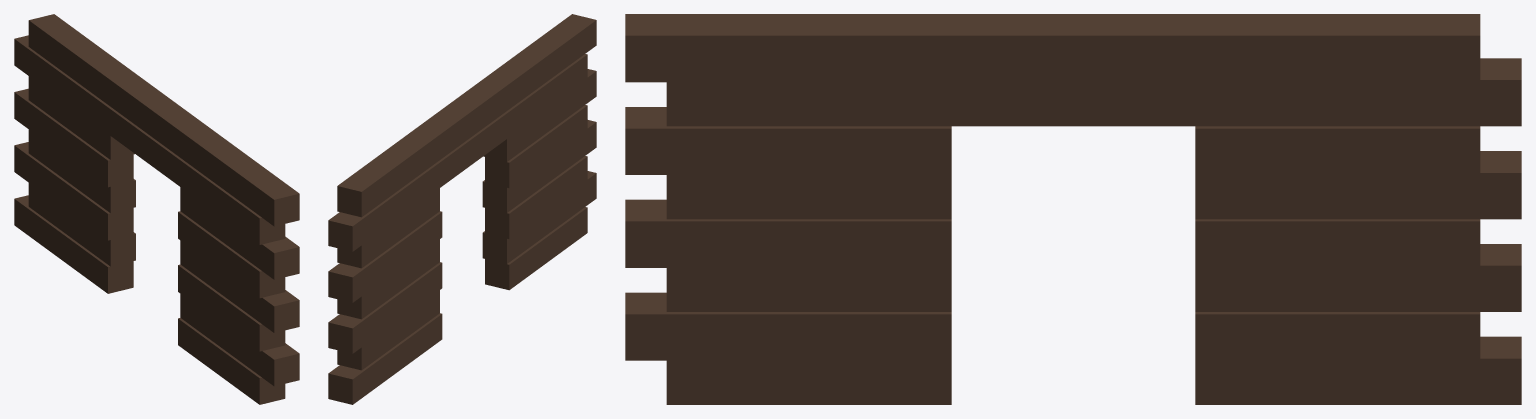
Rendered from Wall With Door destruction.fbx.
The picture shows the model from 3 angles, left to right: view 1: azimuth 30°, elevation 25°; view 2: azimuth 150°, elevation 25°; view 3: azimuth 270°, elevation 25°; orthographic projection. The views are drawn at different scales.
Visible parts, largest first — view 1: Cube.300, Cube.299, Cube.301, Cube.312, Cube.305, Cube.295, Cube.310, Cube.297, Cube.307, Cube.306, Cube.303, Cube.296 (+6 smaller); view 2: Cube.299, Cube.300, Cube.301, Cube.312, Cube.295, Cube.305, Cube.304, Cube.311, Cube.306, Cube.296, Cube.310, Cube.307 (+6 smaller); view 3: Cube.301, Cube.300, Cube.299, Cube.310, Cube.307, Cube.297, Cube.312, Cube.295, Cube.305, Cube.309, Cube.308, Cube.298 (+6 smaller).
Boxes of the visible parts, x1=… form: Cube.300: x1=192, y1=134, x2=299, y2=226; Cube.299: x1=28, y1=14, x2=135, y2=106; Cube.301: x1=110, y1=74, x2=217, y2=165; Cube.312: x1=14, y1=195, x2=133, y2=293; Cube.305: x1=14, y1=142, x2=133, y2=240; Cube.295: x1=14, y1=88, x2=133, y2=187; Cube.310: x1=180, y1=294, x2=299, y2=386; Cube.297: x1=180, y1=187, x2=299, y2=279; Cube.307: x1=180, y1=240, x2=299, y2=332; Cube.306: x1=178, y1=264, x2=285, y2=351; Cube.303: x1=178, y1=158, x2=285, y2=244; Cube.296: x1=178, y1=211, x2=285, y2=298; Cube.299: x1=337, y1=128, x2=439, y2=217; Cube.300: x1=494, y1=14, x2=596, y2=102; Cube.301: x1=416, y1=71, x2=518, y2=159; Cube.312: x1=328, y1=313, x2=442, y2=404; Cube.295: x1=328, y1=211, x2=442, y2=302; Cube.305: x1=328, y1=262, x2=442, y2=353; Cube.304: x1=328, y1=168, x2=430, y2=251; Cube.311: x1=485, y1=207, x2=587, y2=290; Cube.306: x1=485, y1=156, x2=587, y2=239; Cube.296: x1=485, y1=105, x2=587, y2=188; Cube.310: x1=482, y1=171, x2=596, y2=263; Cube.307: x1=482, y1=120, x2=596, y2=212; Cube.301: x1=910, y1=14, x2=1195, y2=82; Cube.300: x1=625, y1=14, x2=910, y2=82; Cube.299: x1=1195, y1=14, x2=1480, y2=82; Cube.310: x1=625, y1=292, x2=951, y2=360; Cube.307: x1=625, y1=199, x2=951, y2=267; Cube.297: x1=625, y1=107, x2=951, y2=174; Cube.312: x1=1195, y1=336, x2=1521, y2=404; Cube.295: x1=1195, y1=151, x2=1521, y2=219; Cube.305: x1=1195, y1=244, x2=1521, y2=311; Cube.309: x1=1195, y1=312, x2=1480, y2=360; Cube.308: x1=1195, y1=219, x2=1480, y2=267; Cube.298: x1=1195, y1=126, x2=1480, y2=174.
Bounding box in the file's own units: 0.3958 × 2.88 × 6.29.
